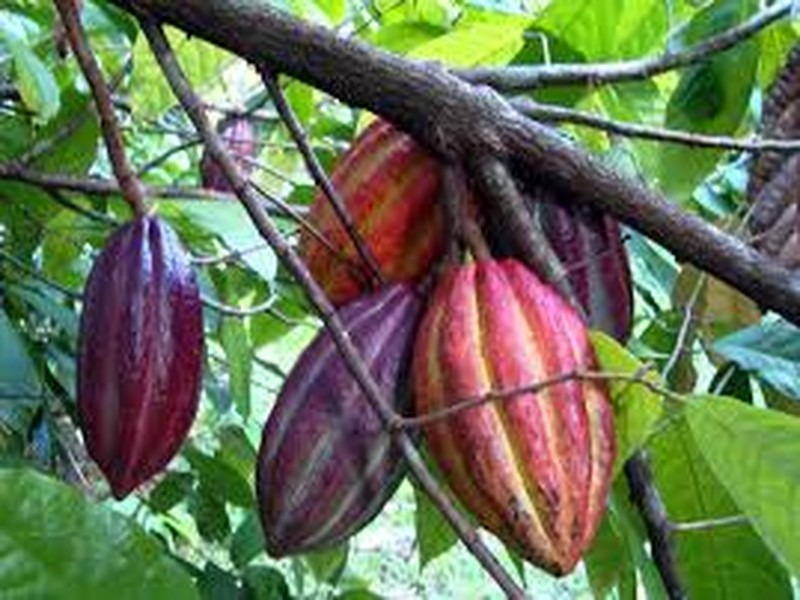Cacaopod: (411, 253, 608, 578)
